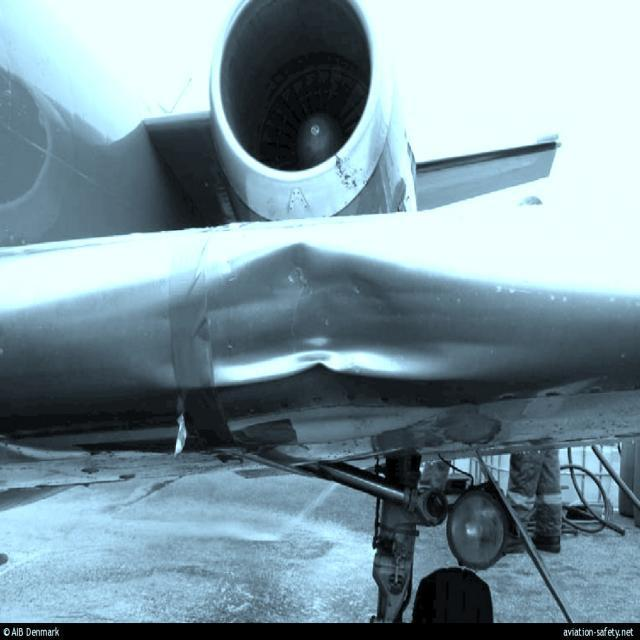crack: (333, 156, 362, 197)
dent: (163, 249, 449, 395), (410, 395, 608, 448), (216, 414, 378, 446), (81, 416, 197, 449)
